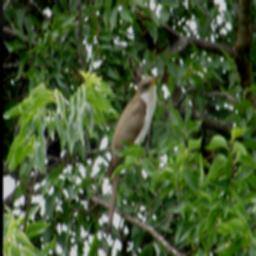Cuckoo: (102, 70, 165, 241)
